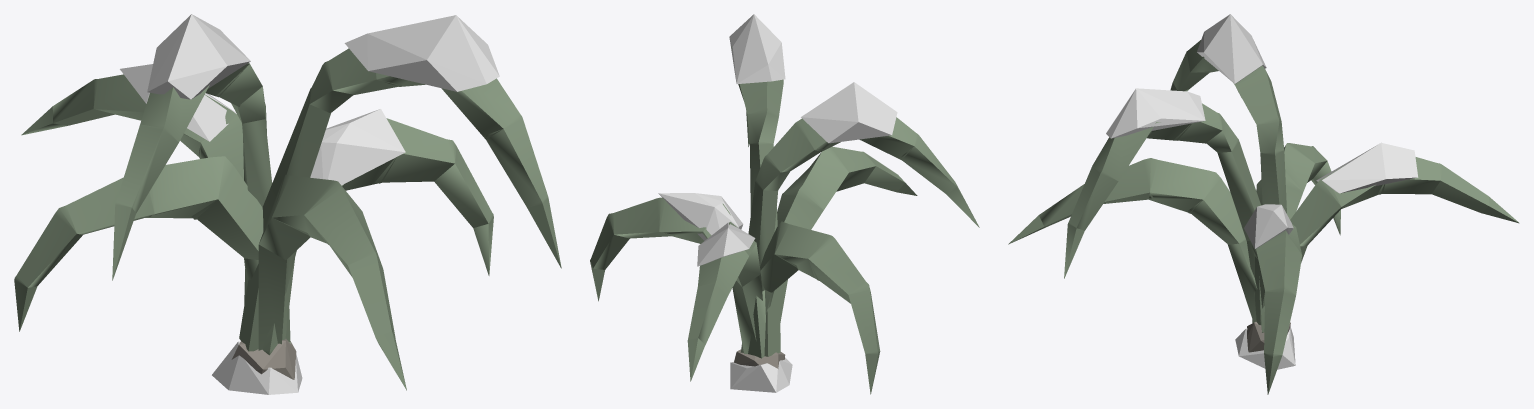
File: plant.fbx
The picture shows the model from 3 angles, left to right: view 1: azimuth 30°, elevation 25°; view 2: azimuth 150°, elevation 25°; view 3: azimuth 270°, elevation 25°; orthographic projection. The views are drawn at different scales.
Visible parts, largest first — view 1: plant; view 2: plant; view 3: plant.
Boxes of the visible parts, left/top/right/bottom form: plant: left=14, top=14, right=561, bottom=394; plant: left=590, top=14, right=979, bottom=394; plant: left=1008, top=14, right=1519, bottom=394.
Bounding box in the file's own units: 130 × 114 × 172.
